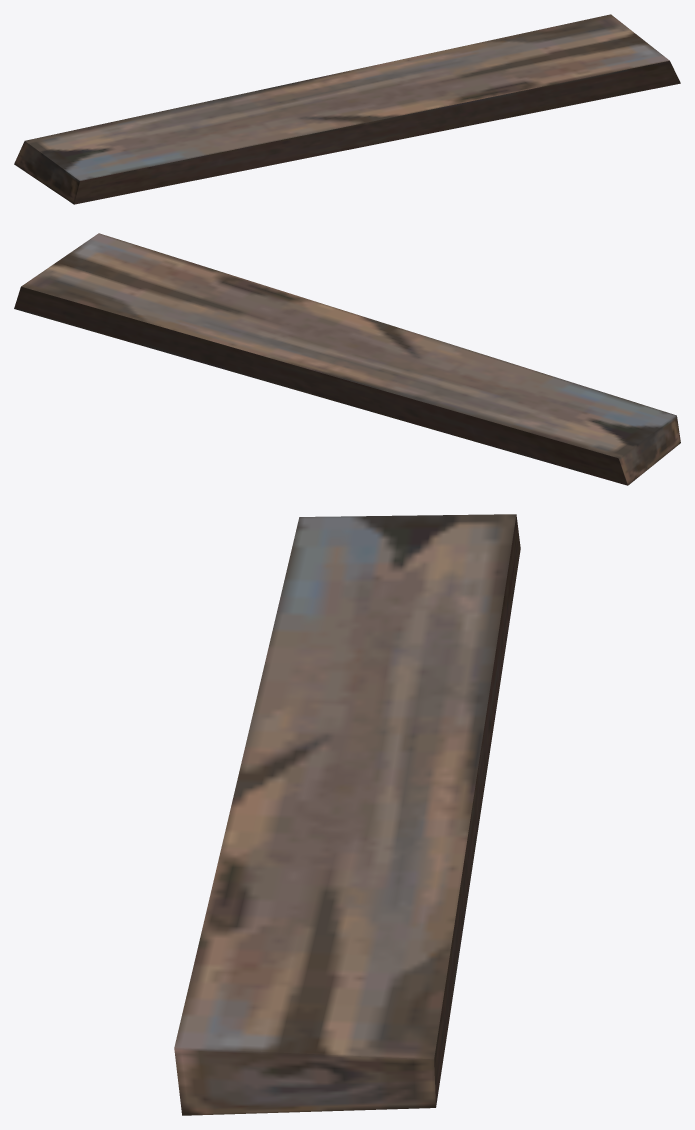
The model's file is mine_board_01.fbx.
The picture shows the model from 3 angles, top to bottom: view 1: azimuth 30°, elevation 25°; view 2: azimuth 150°, elevation 25°; view 3: azimuth 270°, elevation 25°; orthographic projection. The views are drawn at different scales.
Parts seen in each view (by area): view 1: 11_-_Default; view 2: 11_-_Default; view 3: 11_-_Default.
Part boxes in pixels (<box>): 11_-_Default: <box>14,14,680,204</box>; 11_-_Default: <box>14,233,680,485</box>; 11_-_Default: <box>174,514,520,1115</box>.
Size of the model in its own units: 2.38 by 0.1182 by 0.6141.
